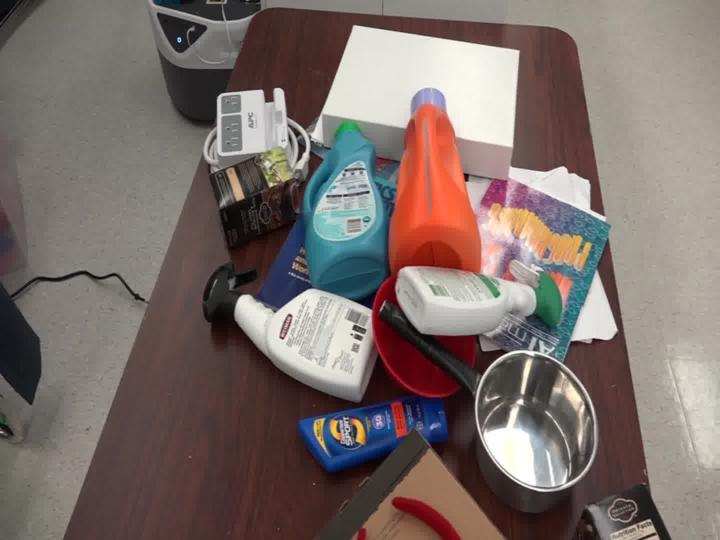downy: (293, 109, 396, 306)
